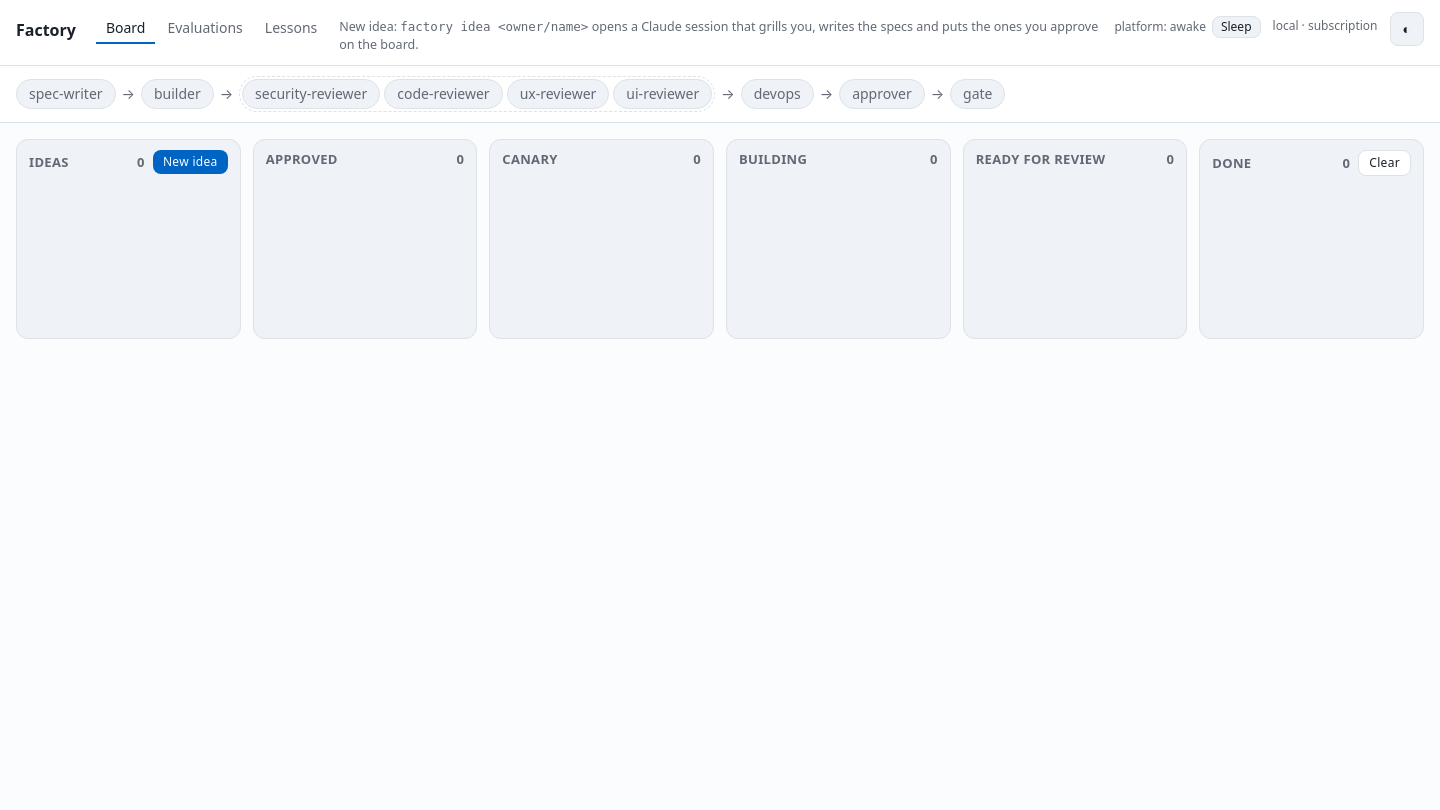
the platform chip (spec 24) › a refused sleep stays on screen and names what holds the platform
The width and height of the screenshot is (1440, 810).
Click the button "Sleep": (1236, 27) [1212, 16, 1260, 38]
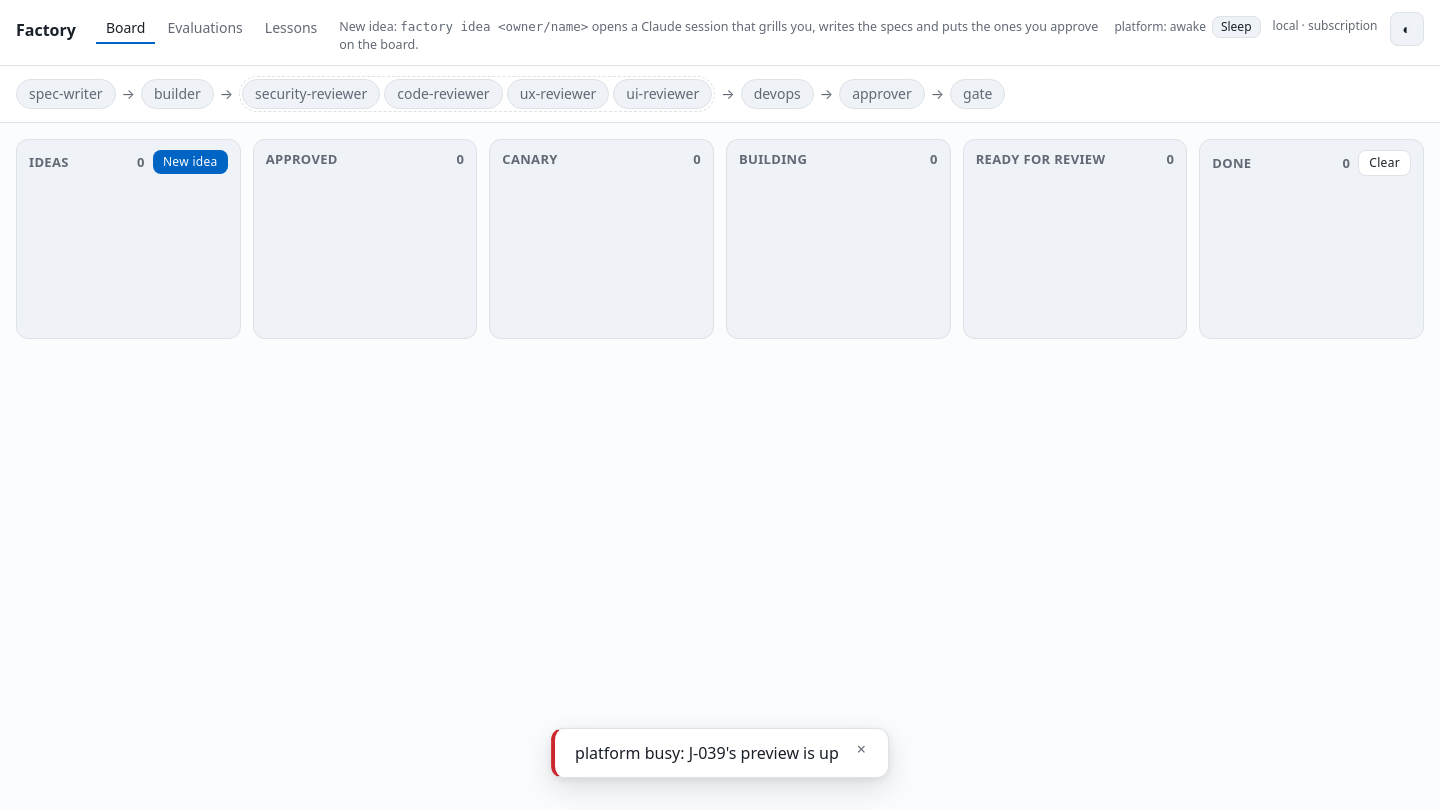
Check: the element showing "platform: awake Sleep" is shown, box [1114, 16, 1260, 38]
Check: the message with id "toast" shows "platform busy: J-039's preview is up", box [575, 742, 839, 764]
